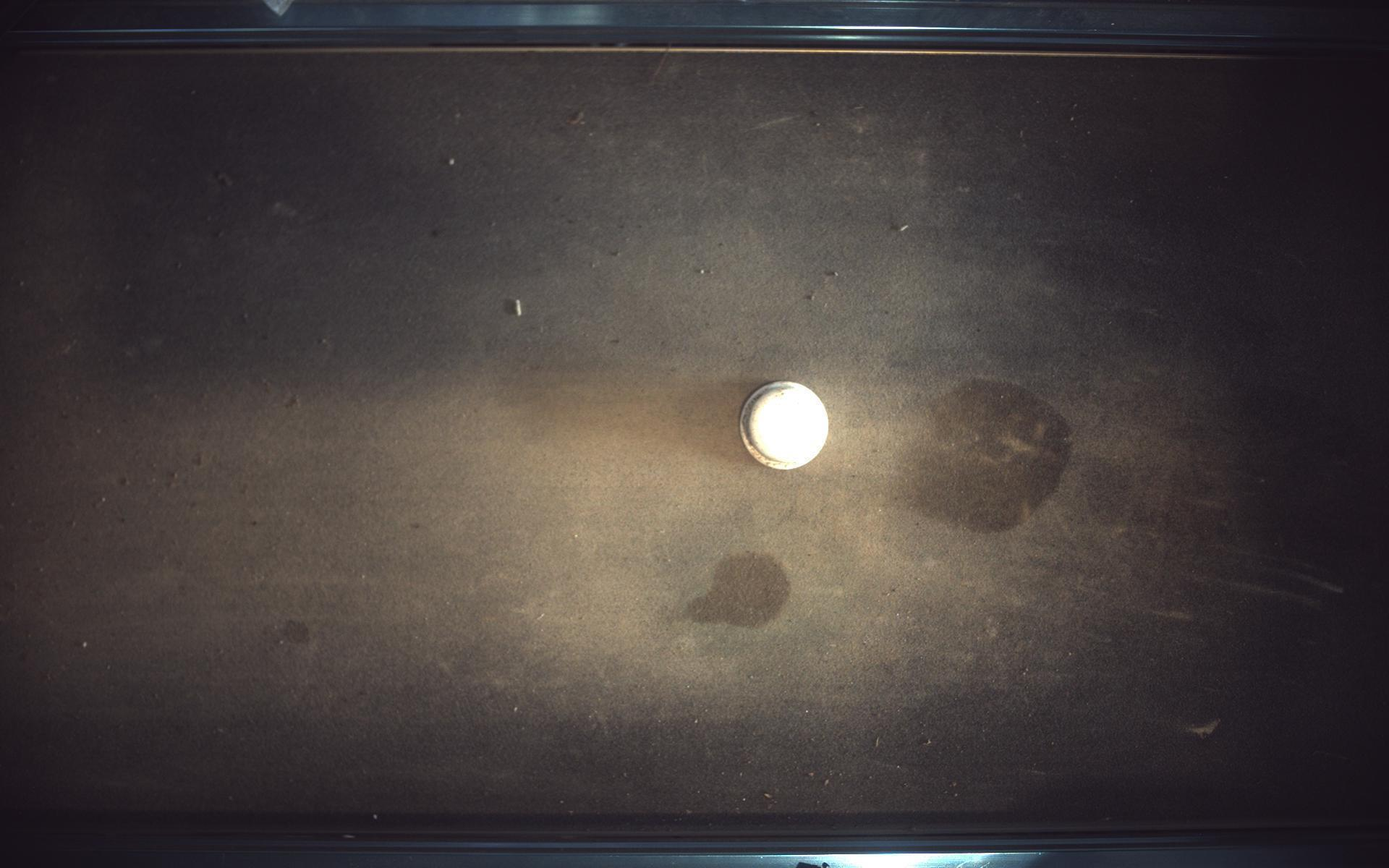general_w: (741, 381, 830, 470)
